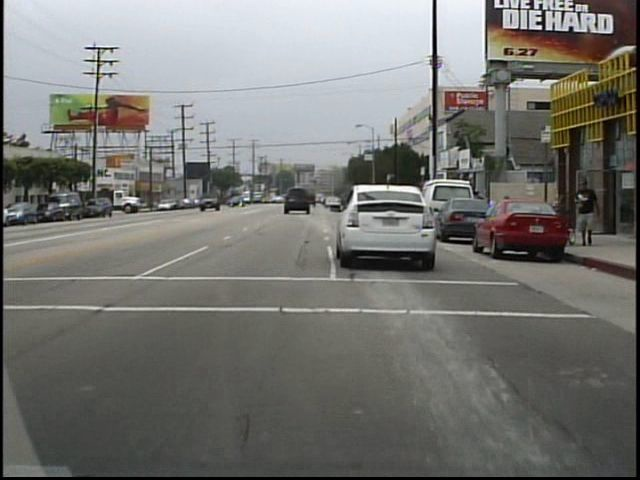person: (575, 174, 603, 250)
